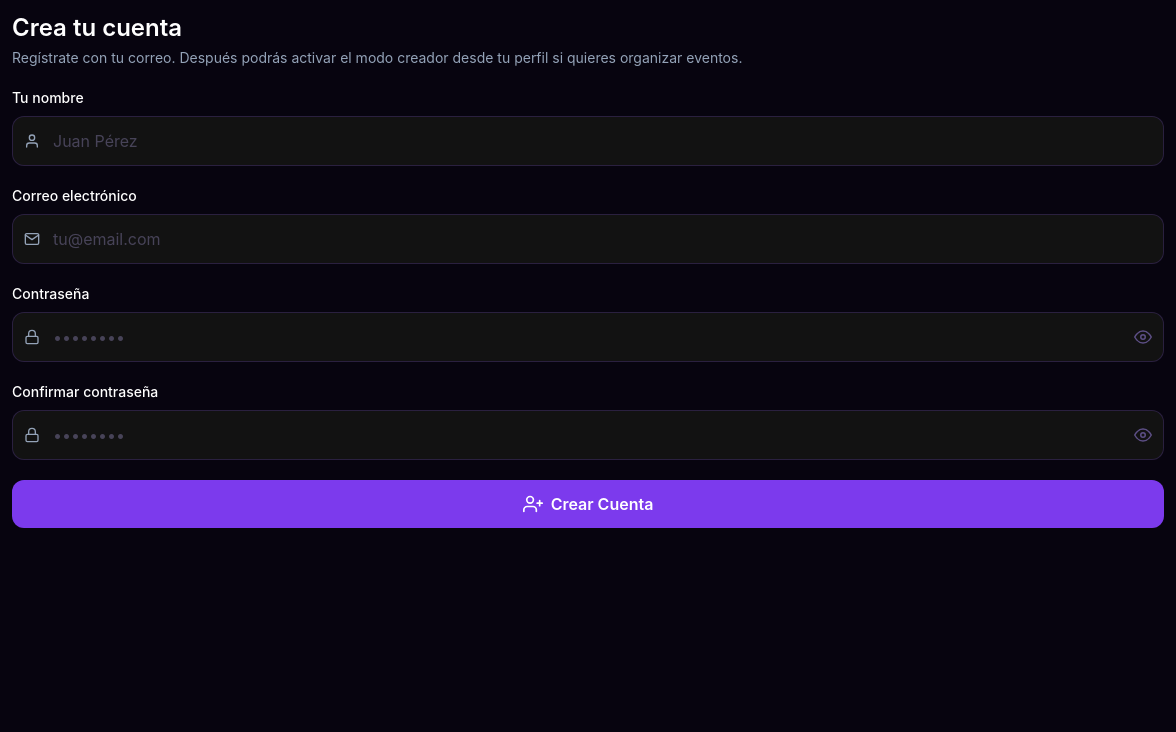
Test: SignUpForm › validaciones › muestra error si las contraseñas no coinciden
The width and height of the screenshot is (1176, 732).
In the field with placeholder "Juan Pérez": (588, 141) 12,116 -> 1164,166, type "Test"
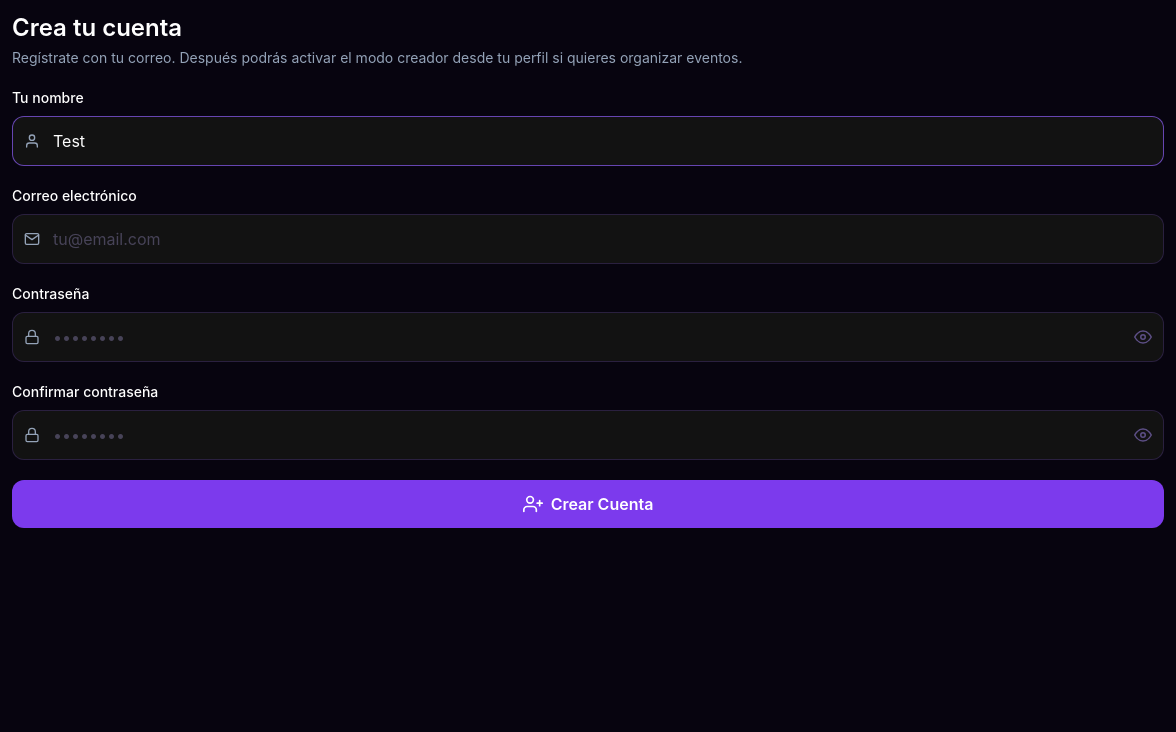
In the field with placeholder "tu@email.com": (588, 239) 12,214 -> 1164,264, type "test@emeet.com"
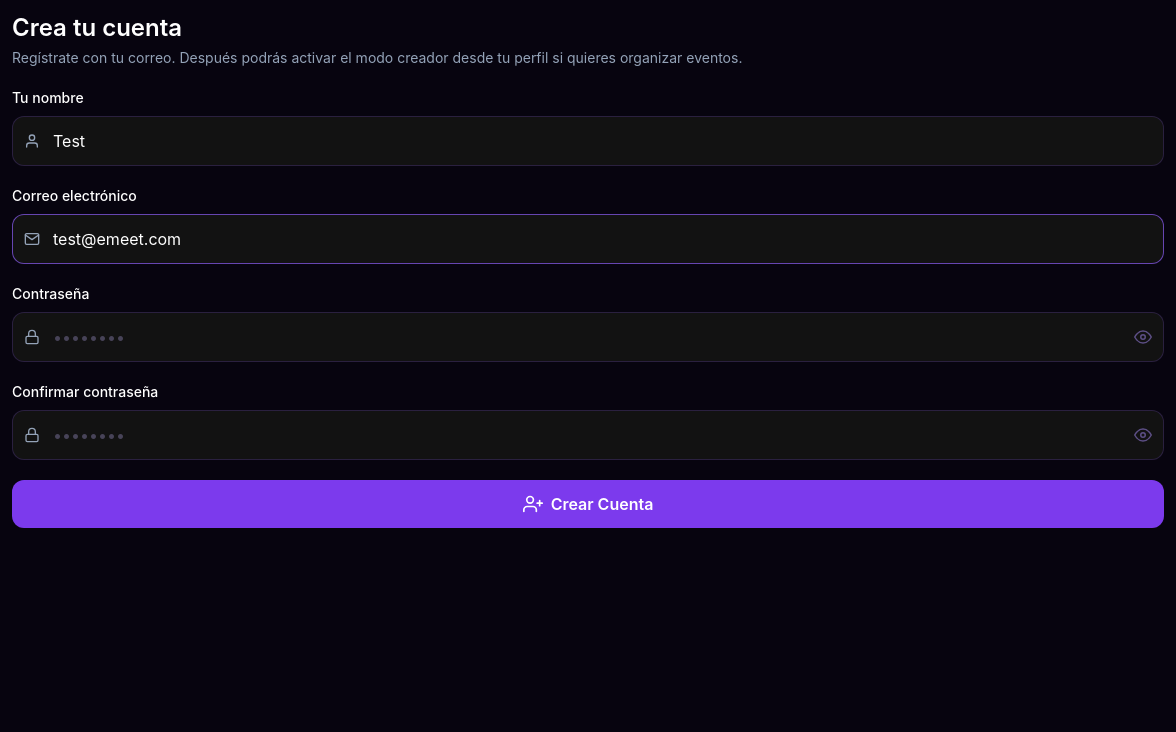
In the password field labelled "Contraseña": (588, 337) 12,312 -> 1164,362, type "Abc123!!"
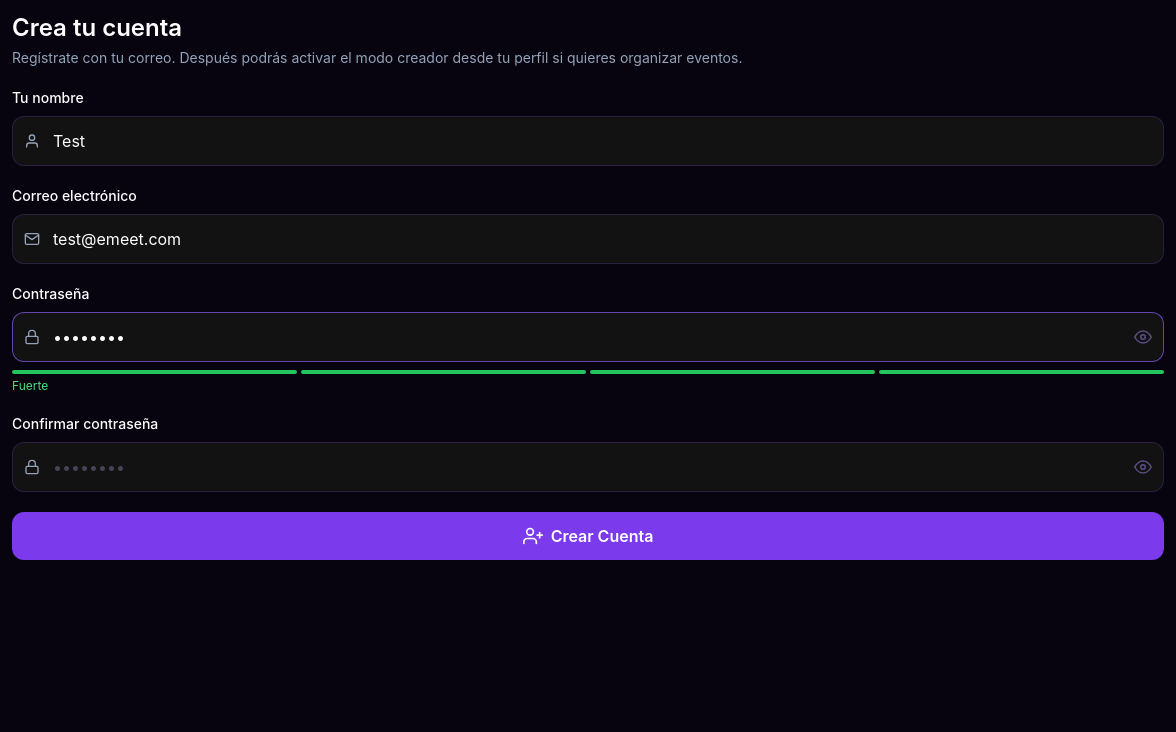
In the password field labelled "Confirmar contraseña": (588, 467) 12,442 -> 1164,492, type "OtraPass!!"
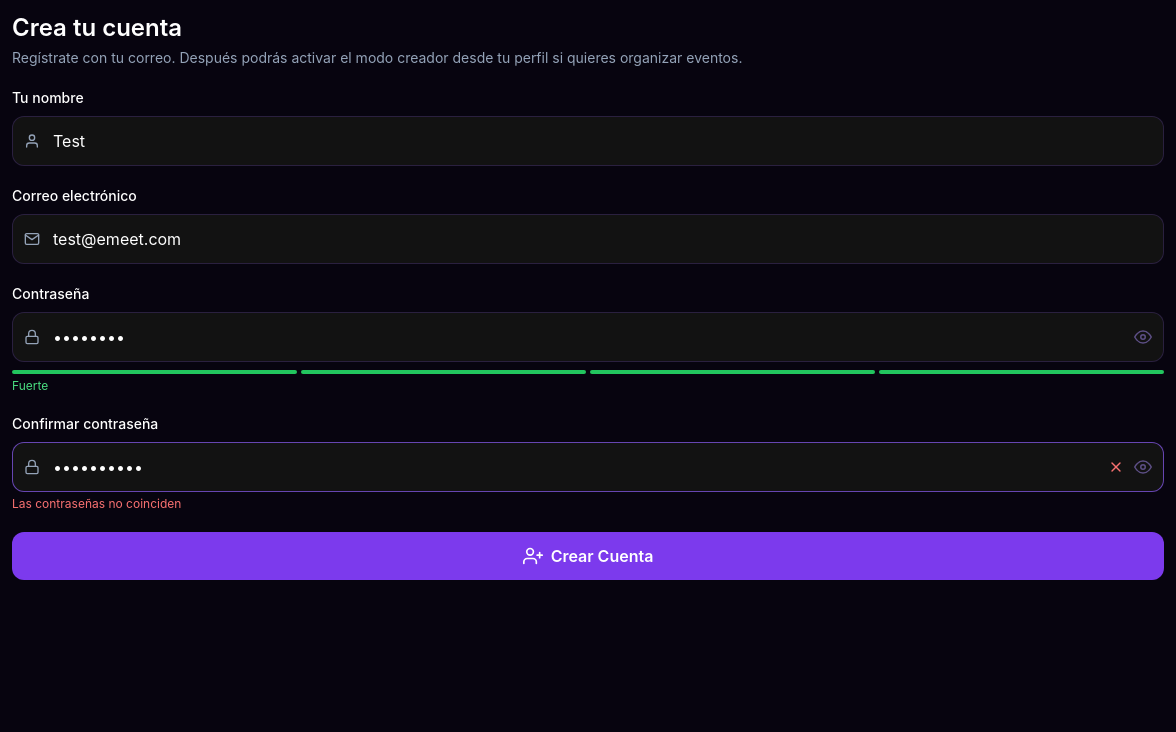
Click the button "Crear Cuenta": (588, 556) 12,532 -> 1164,580
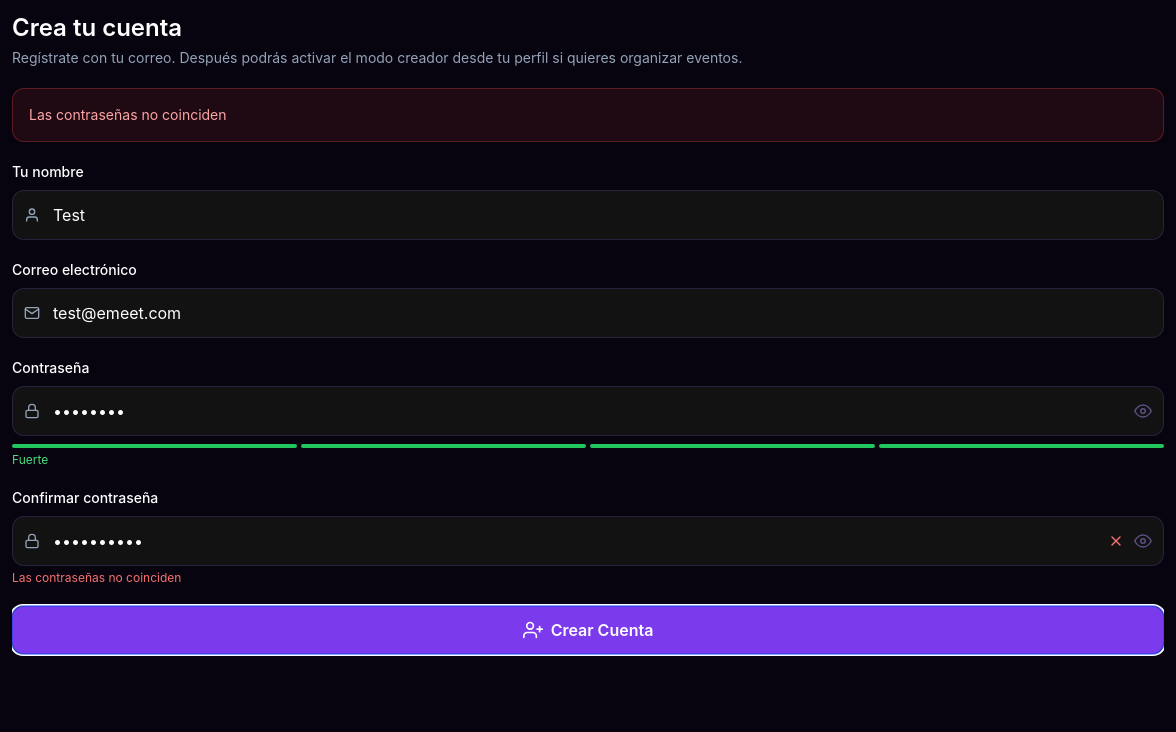
Result: the 1st text "Las contraseñas no coinciden" is shown at 12,88 -> 1164,142
